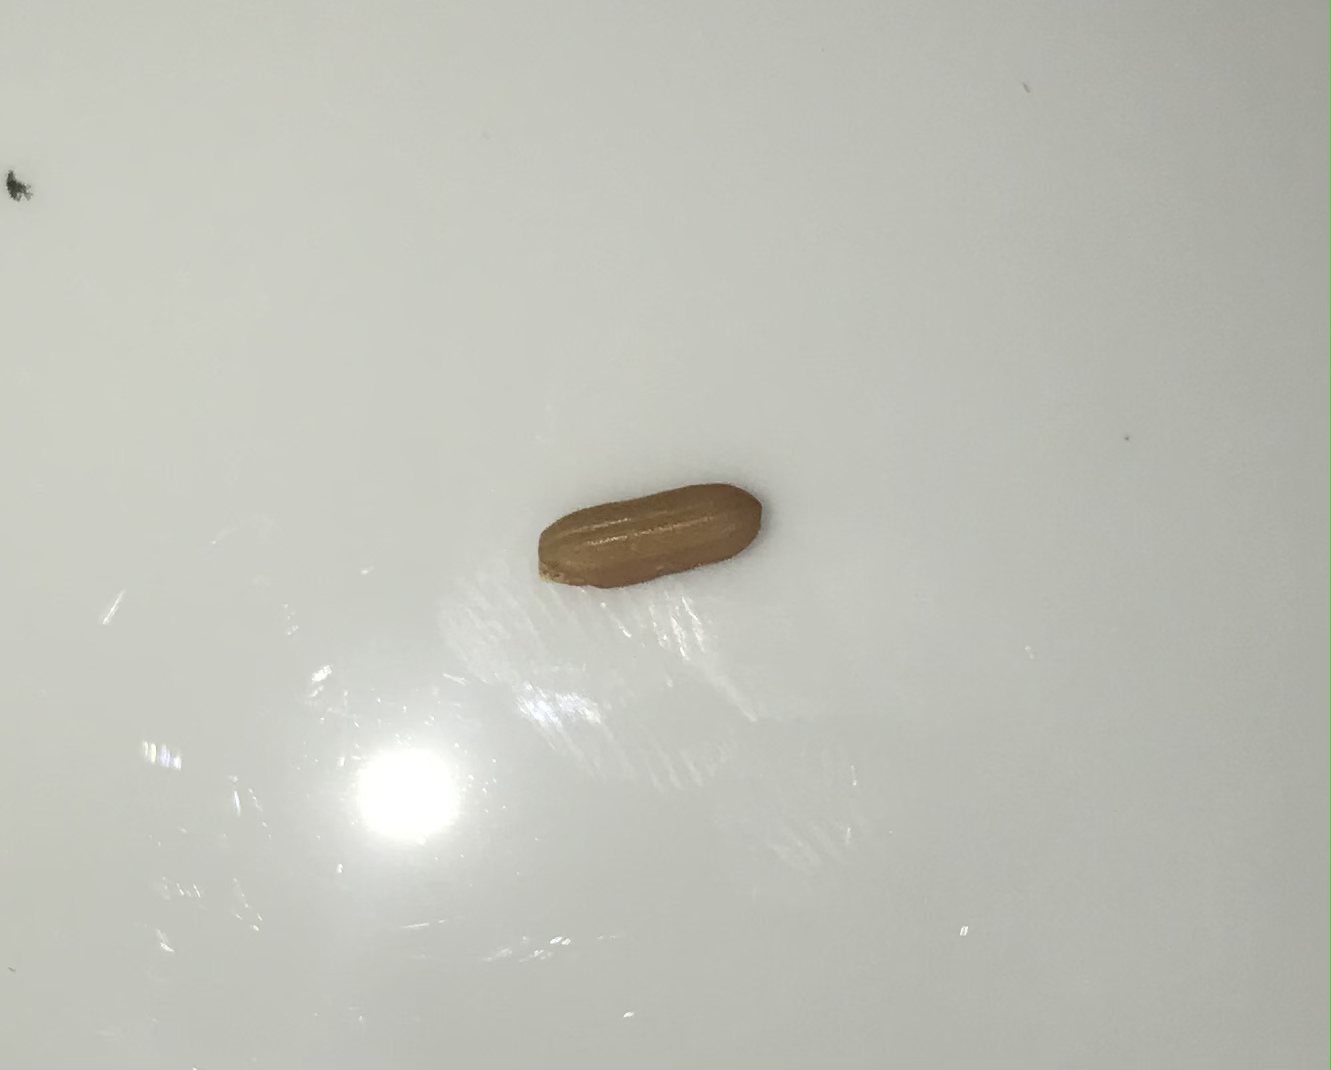Gao Lut Dien Bien: (535, 472, 770, 601)
